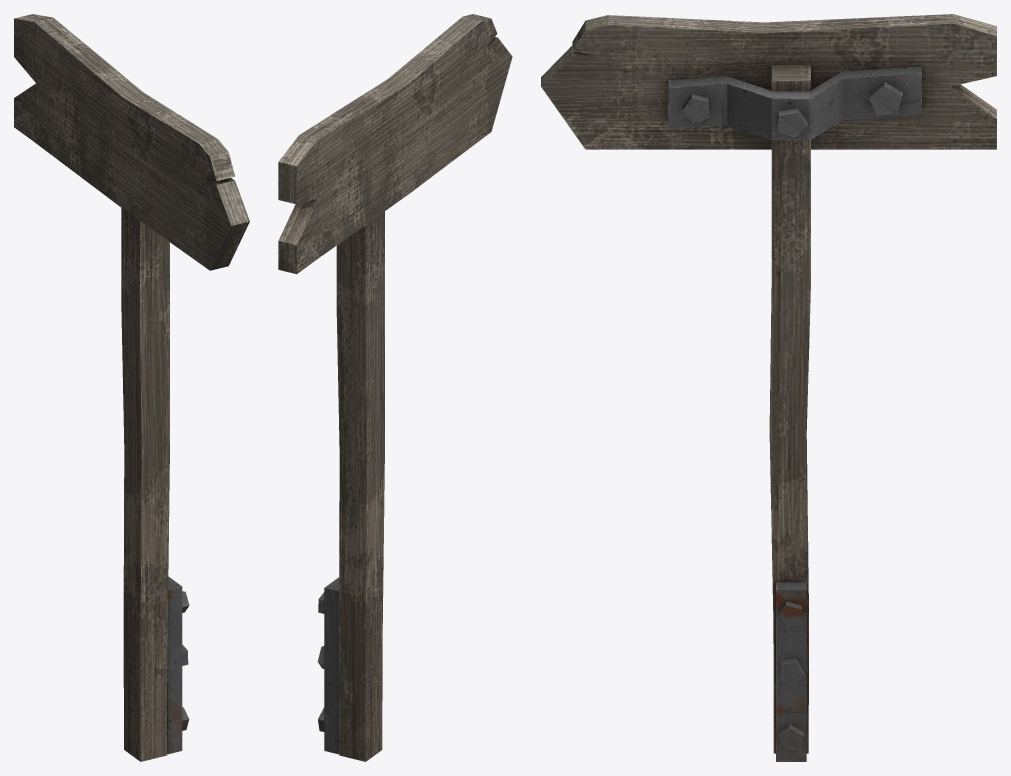
The model's file is arrow_sign.glb.
3 renders of one model, left to right at view 1: azimuth 30°, elevation 25°; view 2: azimuth 150°, elevation 25°; view 3: azimuth 270°, elevation 25°, orthographic. The views are drawn at different scales.
Visible parts, largest first — view 1: Renderer; view 2: Renderer; view 3: Renderer.
Part boxes in pixels (left/top/right/bottom): Renderer: left=14, top=14, right=249, bottom=761; Renderer: left=278, top=14, right=512, bottom=761; Renderer: left=541, top=14, right=996, bottom=761.
Bounding box in the file's own units: 0.1703 × 1.51 × 0.8702.
1 material, 1 textured.
